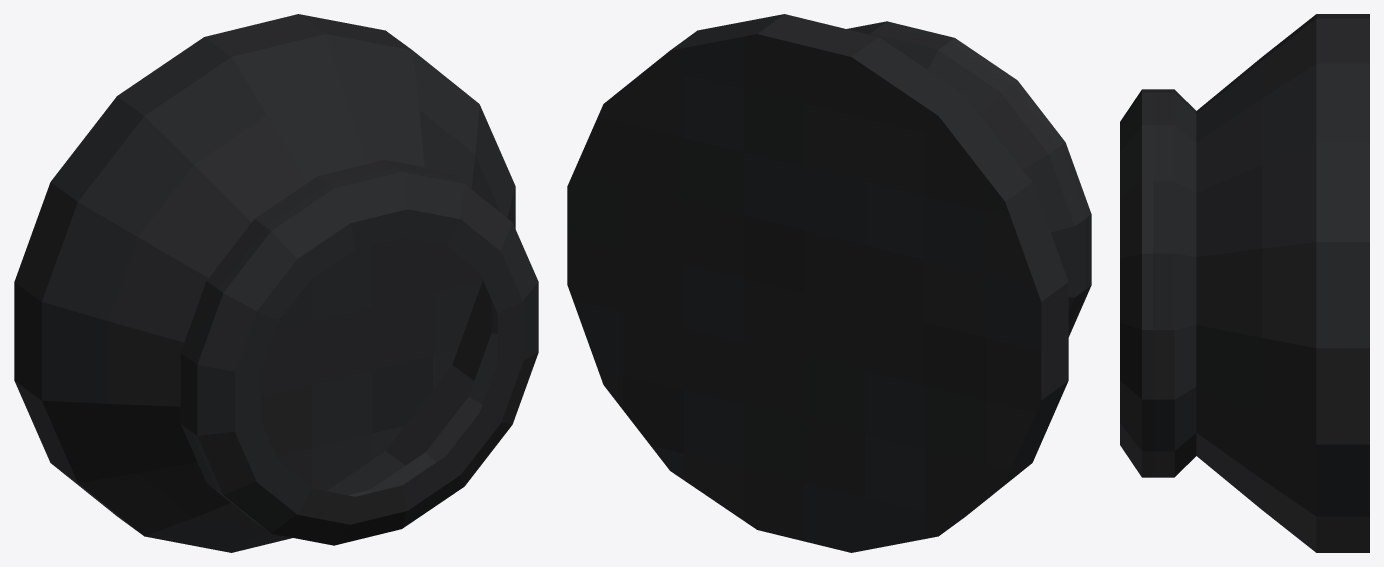
Rendered from decopole_reprofluted_tenon_n.obj.
3 views of the same model, side by side, from view 1: azimuth 30°, elevation 25°; view 2: azimuth 150°, elevation 25°; view 3: azimuth 270°, elevation 25° (orthographic). The views are drawn at different scales.
Parts seen in each view (by area): view 1: decopole_reprofluted_tenon_n; view 2: decopole_reprofluted_tenon_n; view 3: decopole_reprofluted_tenon_n.
Part boxes in pixels (bbox=[...]): decopole_reprofluted_tenon_n: bbox=[14, 14, 538, 552]; decopole_reprofluted_tenon_n: bbox=[567, 14, 1091, 552]; decopole_reprofluted_tenon_n: bbox=[1120, 14, 1369, 552].
Size of the model in its own units: 0.613 by 0.613 by 0.2862.
